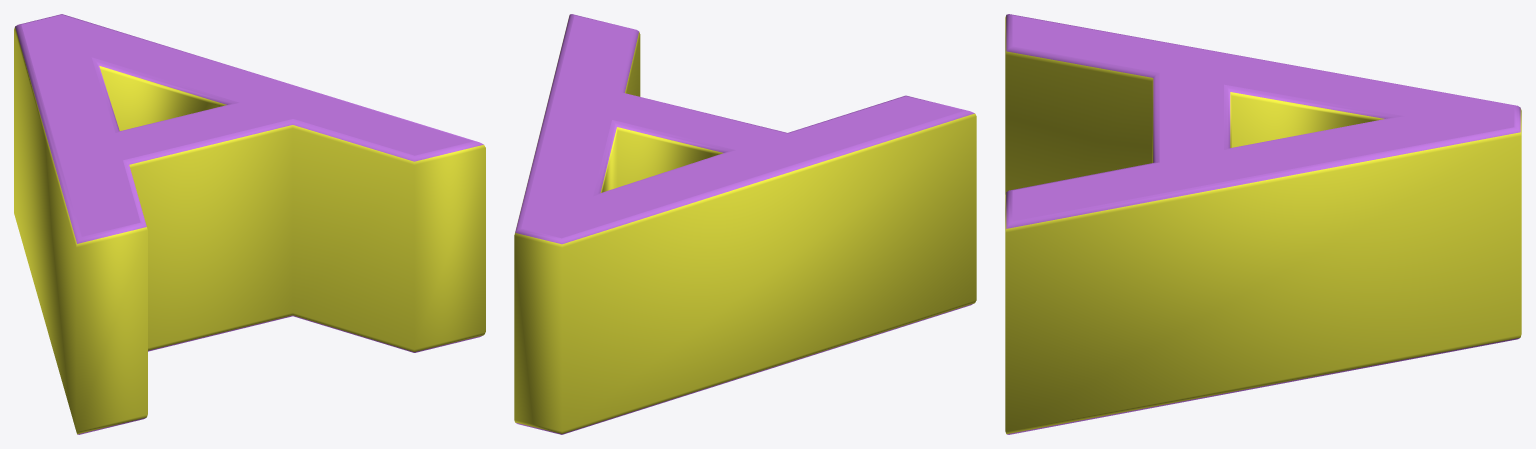
The model's file is letter_A.fbx.
3 views of the same model, side by side, from view 1: azimuth 30°, elevation 25°; view 2: azimuth 150°, elevation 25°; view 3: azimuth 270°, elevation 25° (orthographic). The views are drawn at different scales.
Parts seen in each view (by area): view 1: Letter_A; view 2: Letter_A; view 3: Letter_A.
Boxes of the visible parts, bbox=[...] form: Letter_A: bbox=[14, 14, 485, 434]; Letter_A: bbox=[514, 14, 976, 434]; Letter_A: bbox=[1005, 14, 1521, 434].
Size of the model in its own units: 69.75 by 32 by 70.6.
